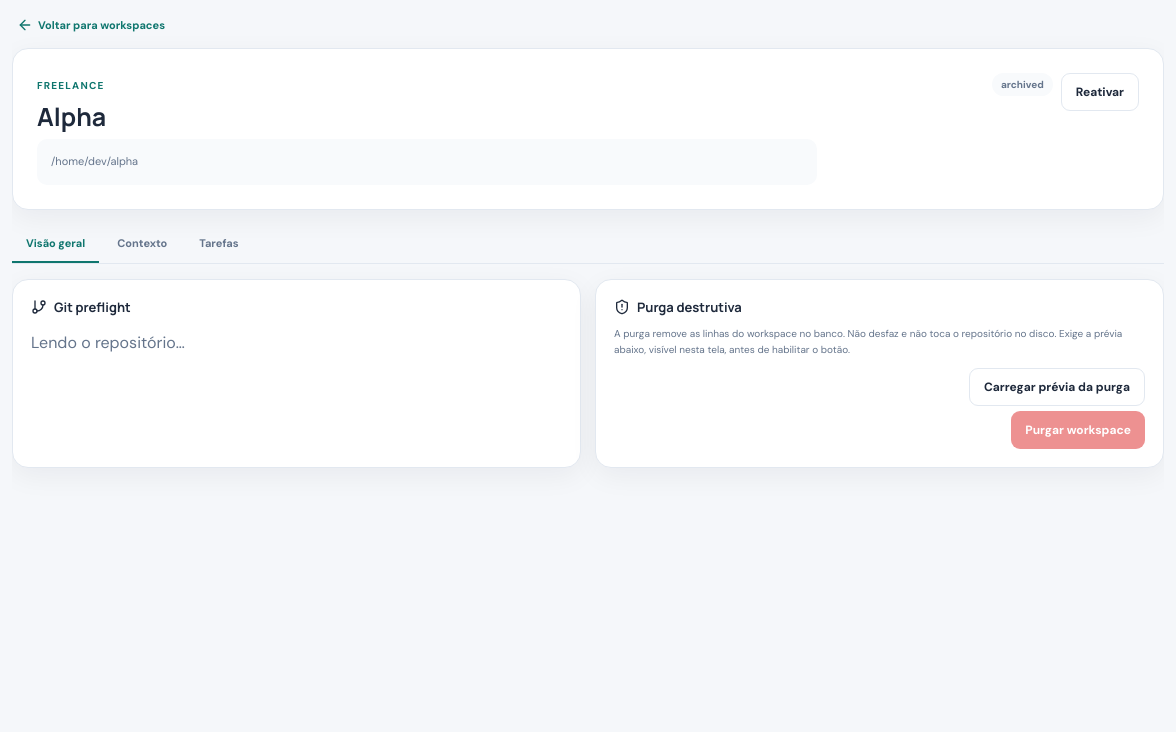
it: WorkspaceDetail — abas › troca para o painel de contexto ao clicar na aba
Click the tab "Contexto".
click(142, 244)  # box 103,225 -> 181,263
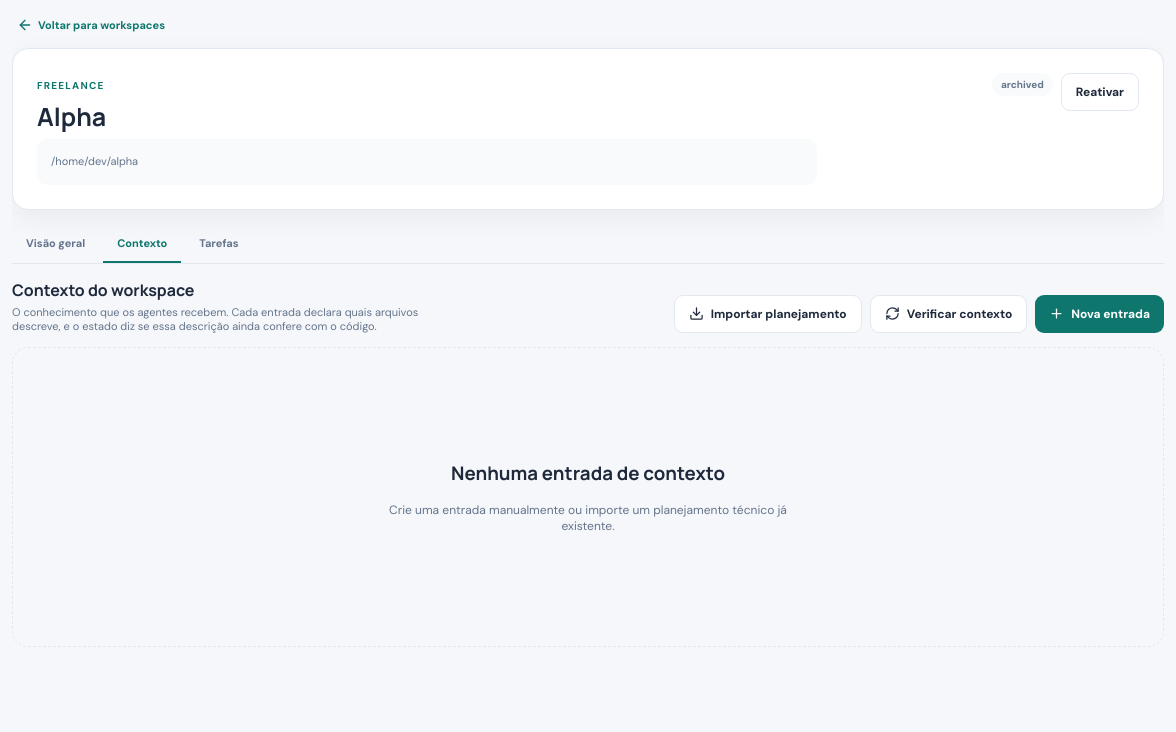
expect the heading "Contexto do workspace" is shown: met, box 12,279 -> 194,301
expect the heading "Git preflight" is gone: met
